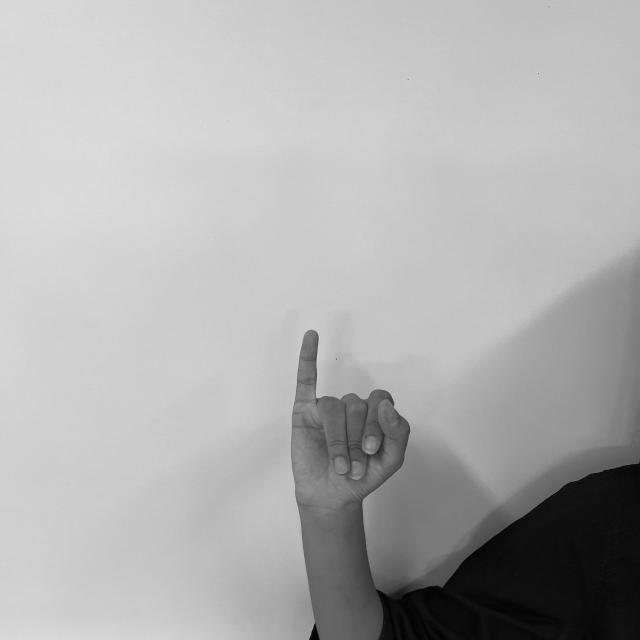Letra I: (284, 325, 414, 514)
